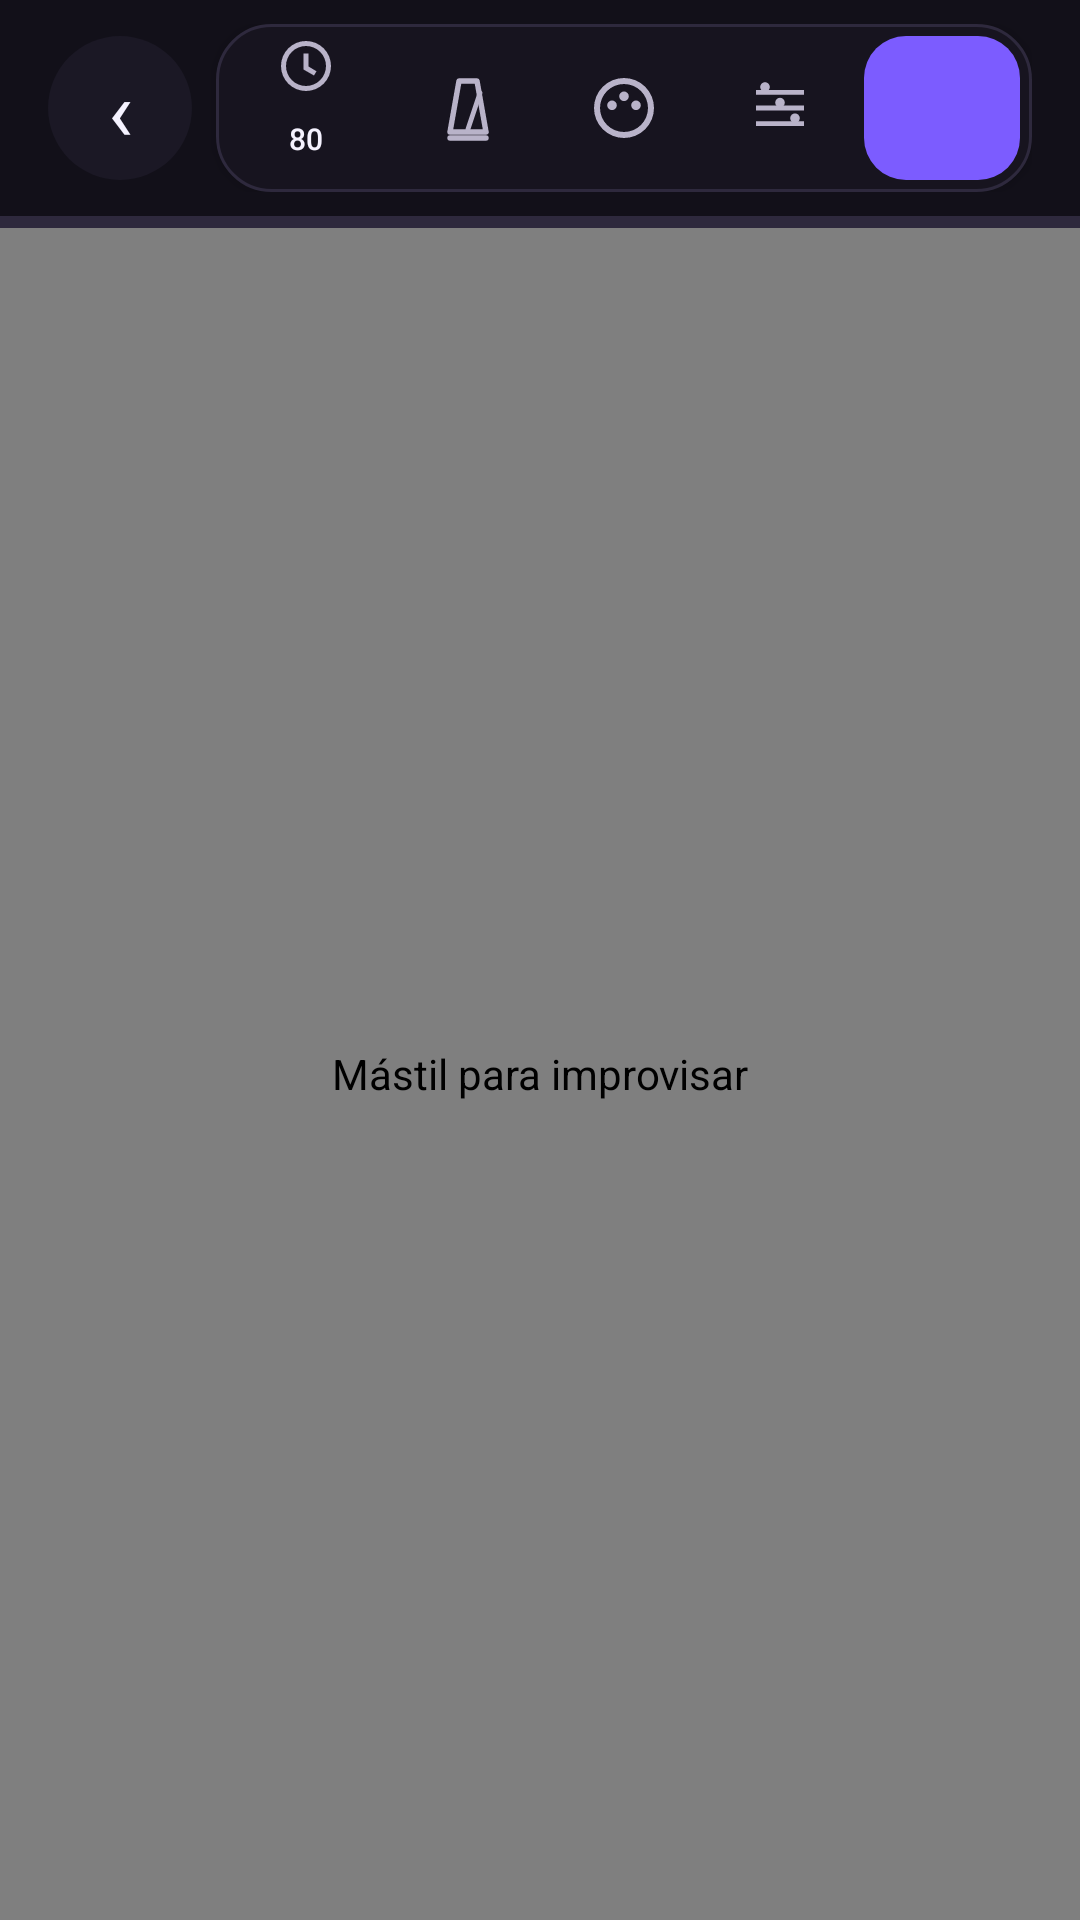

Screen size 1080×1920. Icon name, then its box in pixels as (x1, y1, x2, y2):
Activar metrónomo: (447, 78, 489, 141)
